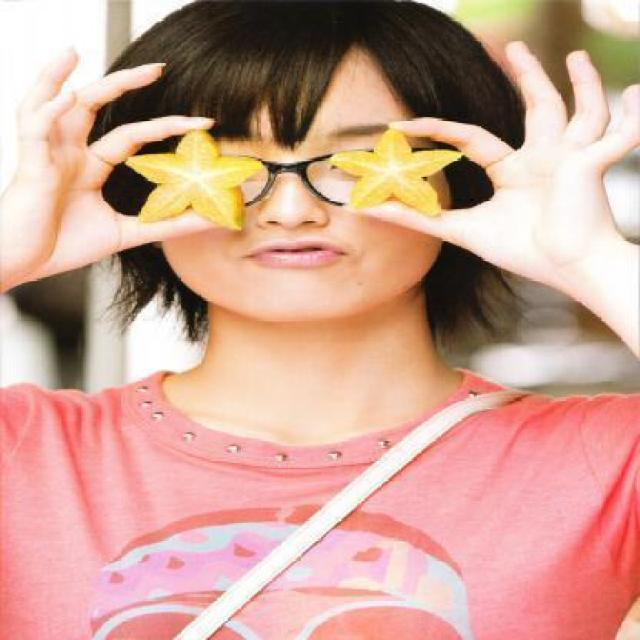face_nomask: (175, 138, 408, 288)
hand_noglove: (352, 33, 640, 276), (0, 42, 235, 289)
